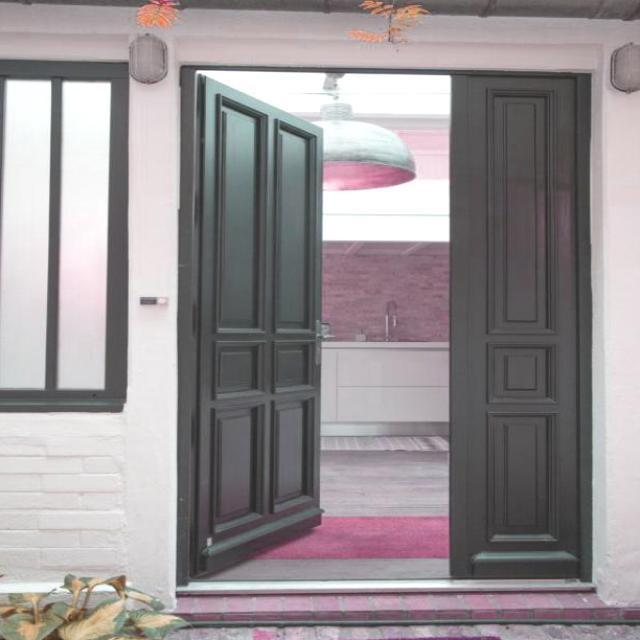door: (191, 74, 324, 576)
